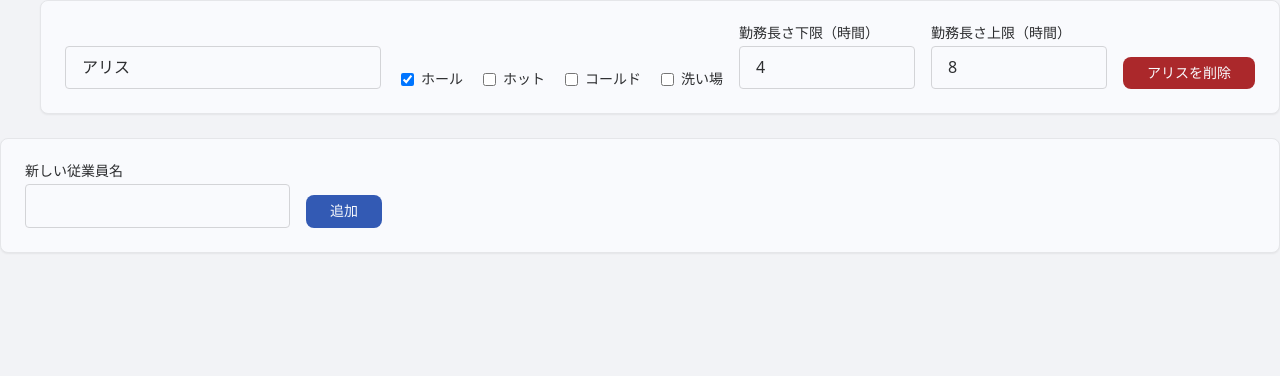
Test case: EmployeeManager › shows an error and does not save an invalid reversed range
Replace the text in the number field named "アリス 勤務長さ下限（時間）" with "9" at (827, 68), box [739,46,915,89]
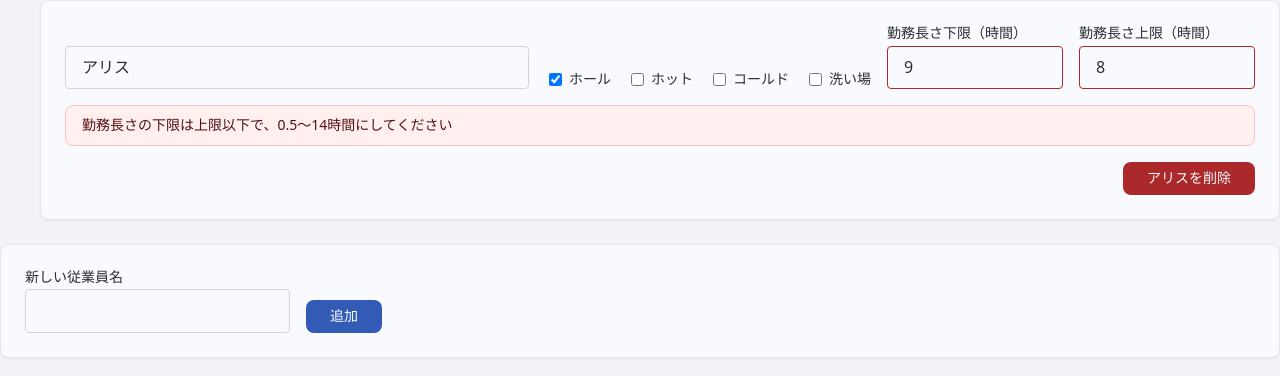
expect the text "勤務長さの下限は上限以下で、0.5〜14時間にしてください" is shown: met, box [65,105,1255,146]
